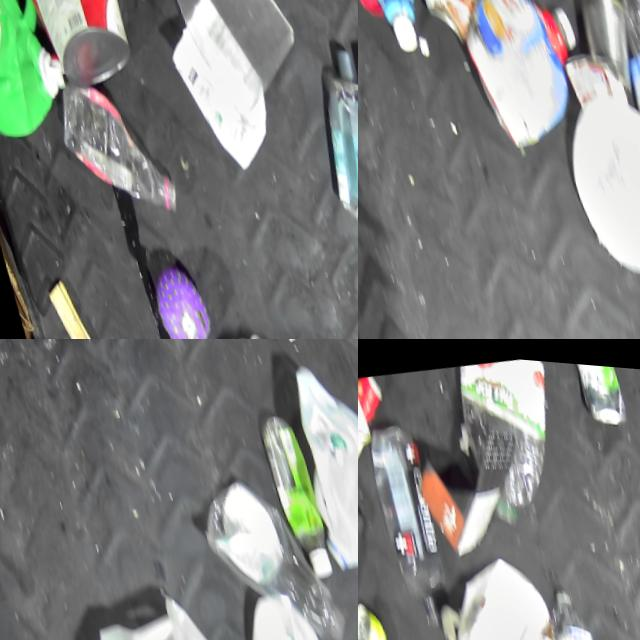can: (0, 0, 140, 101), (567, 0, 640, 96), (573, 358, 629, 421), (342, 30, 358, 157), (358, 602, 411, 640)
milk_jug: (549, 81, 640, 281), (431, 541, 584, 640), (68, 577, 283, 640)
non_white_jug: (448, 0, 604, 160), (0, 0, 80, 152)
plastic_bottle: (194, 465, 342, 640), (451, 350, 583, 535), (41, 62, 181, 227), (367, 440, 452, 629), (528, 571, 603, 640), (610, 0, 640, 158)
